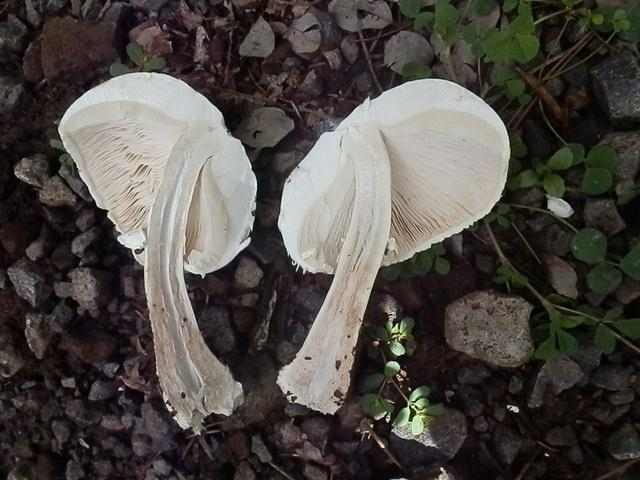poisonous_mushroom: (274, 75, 511, 416), (56, 69, 258, 435)
